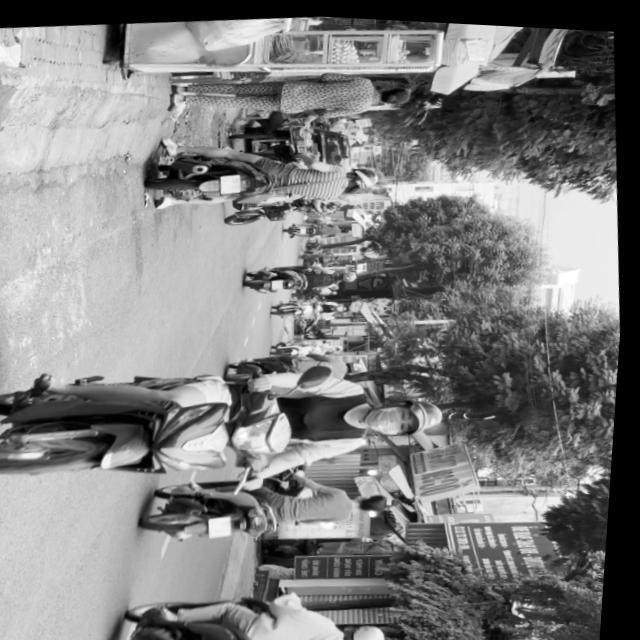helmet: (372, 389, 453, 436), (348, 617, 398, 640), (348, 162, 381, 188)
licenseplate: (0, 328, 460, 511), (142, 455, 403, 552), (144, 123, 389, 219), (109, 571, 402, 640)
motorcyclist: (359, 487, 400, 511)
nohelmet: (214, 511, 241, 535), (222, 170, 244, 191)
